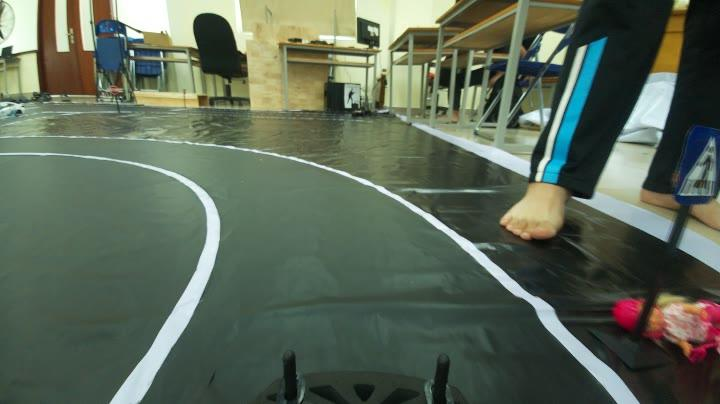crosswalk: (674, 126, 718, 204)
